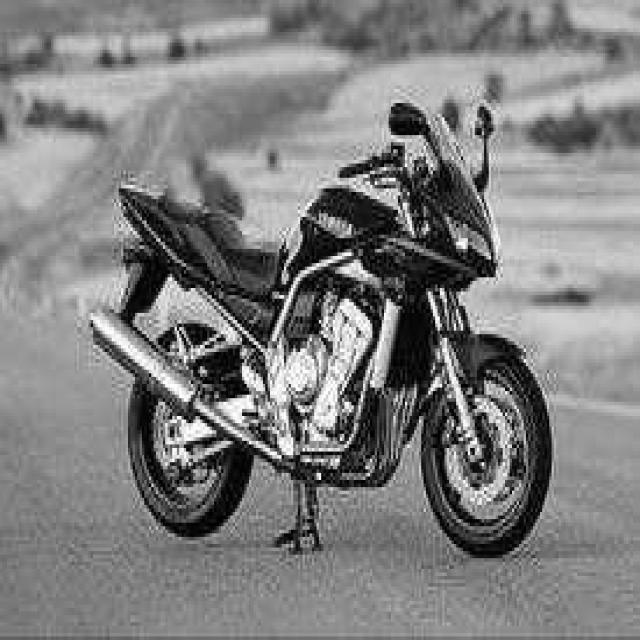Motorcycle: (90, 103, 551, 555)
